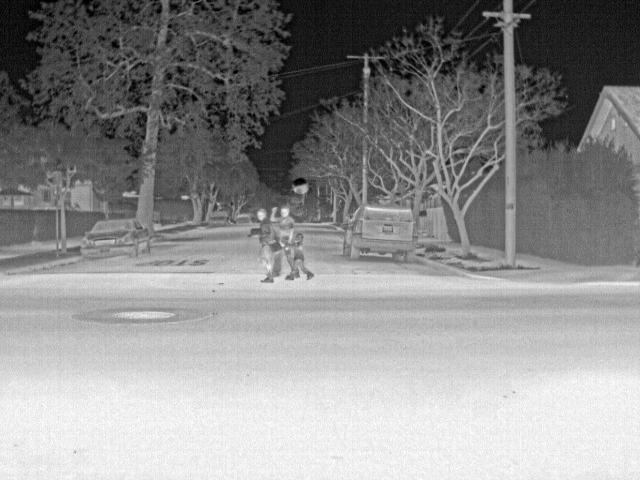car: (342, 204, 416, 264), (78, 216, 150, 264), (206, 208, 230, 228), (235, 211, 252, 224)
person: (254, 206, 277, 282), (275, 204, 293, 282), (289, 232, 314, 282)
